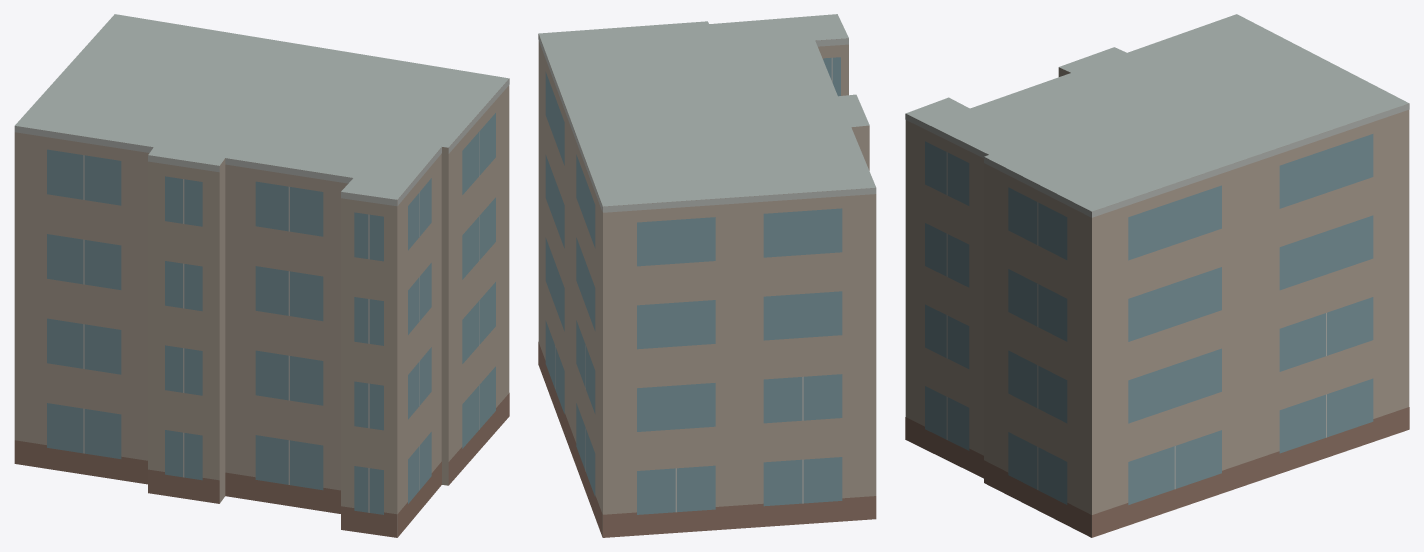
File: survey-upis-32929928.glb
The picture shows the model from 3 angles, left to right: view 1: azimuth 30°, elevation 25°; view 2: azimuth 150°, elevation 25°; view 3: azimuth 270°, elevation 25°; orthographic projection. The views are drawn at different scales.
Visible parts, largest first — view 1: survey-upis-32929928.tmp; view 2: survey-upis-32929928.tmp; view 3: survey-upis-32929928.tmp.
Part boxes in pixels (left/top/right/bottom): survey-upis-32929928.tmp: left=14, top=14, right=509, bottom=537; survey-upis-32929928.tmp: left=538, top=14, right=876, bottom=537; survey-upis-32929928.tmp: left=905, top=14, right=1409, bottom=537.
Size of the model in its own units: 16.64 by 12.8 by 17.93.
